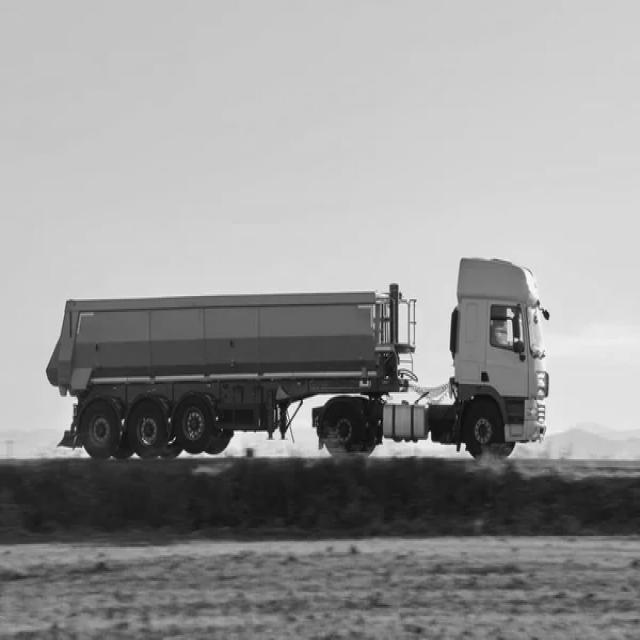Truck: (47, 259, 550, 458)
